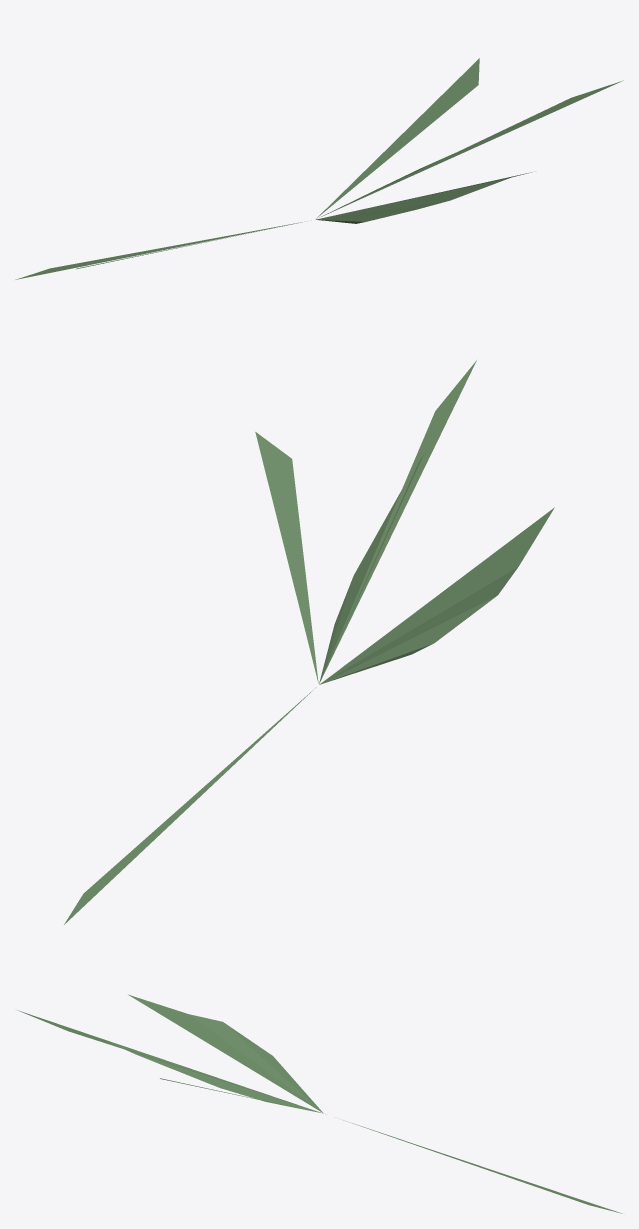
File: c_1671_17834_forest.glb
The picture shows the model from 3 angles, top to bottom: view 1: azimuth 90°, elevation 25°; view 2: azimuth 150°, elevation 25°; view 3: azimuth 270°, elevation 25°; orthographic projection. The views are drawn at different scales.
Parts seen in each view (by area): view 1: geometry_0; view 2: geometry_0; view 3: geometry_0.
Boxes of the visible parts, bbox=[...] form: geometry_0: bbox=[15, 58, 623, 279]; geometry_0: bbox=[64, 360, 554, 924]; geometry_0: bbox=[17, 994, 622, 1213].
Bounding box in the file's own units: 147 × 119 × 298.
